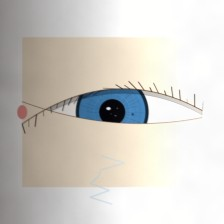foreign_body_visible: (87, 119, 132, 155)
